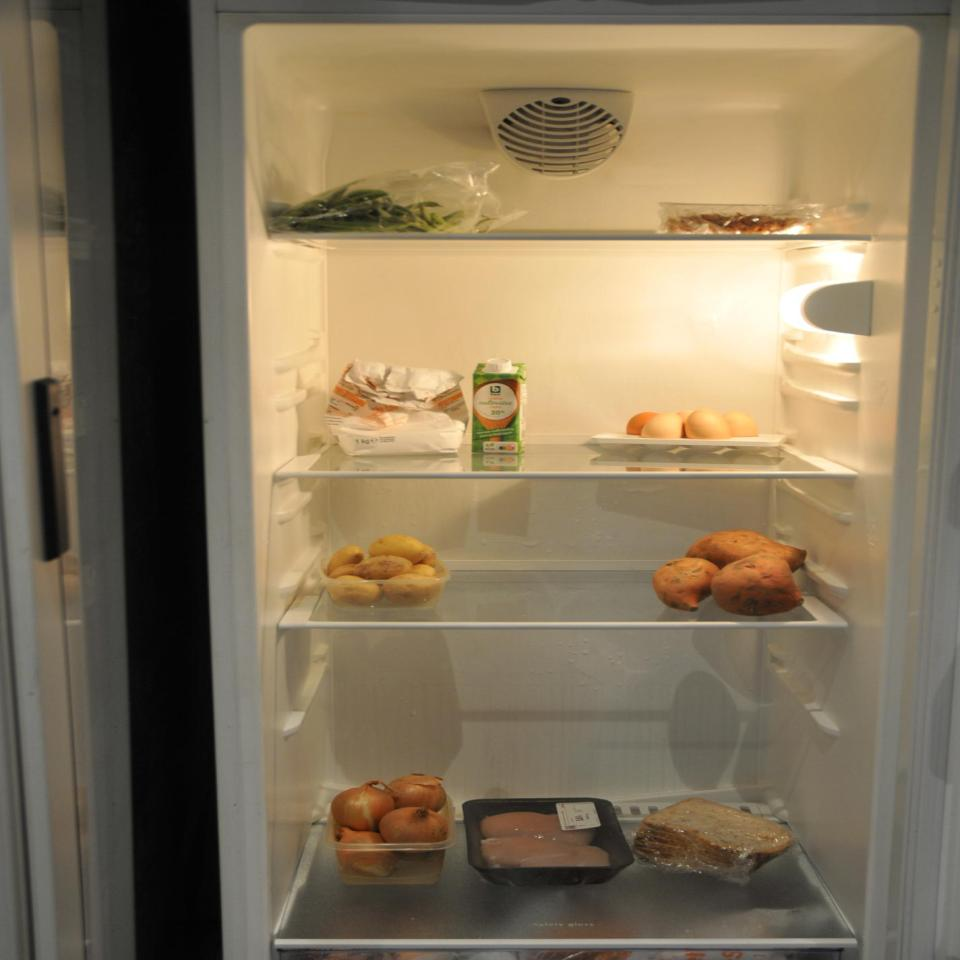Carne pollo: (460, 796, 636, 886)
Huevos: (626, 409, 766, 452)
